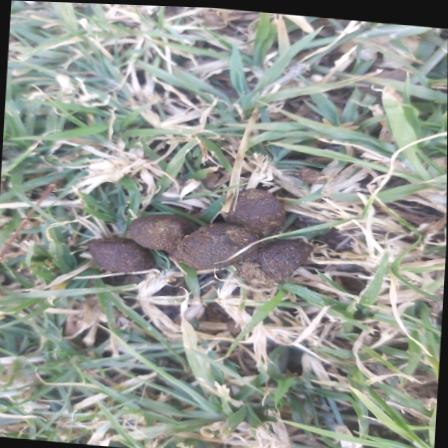dog-poop: (58, 164, 358, 300)
